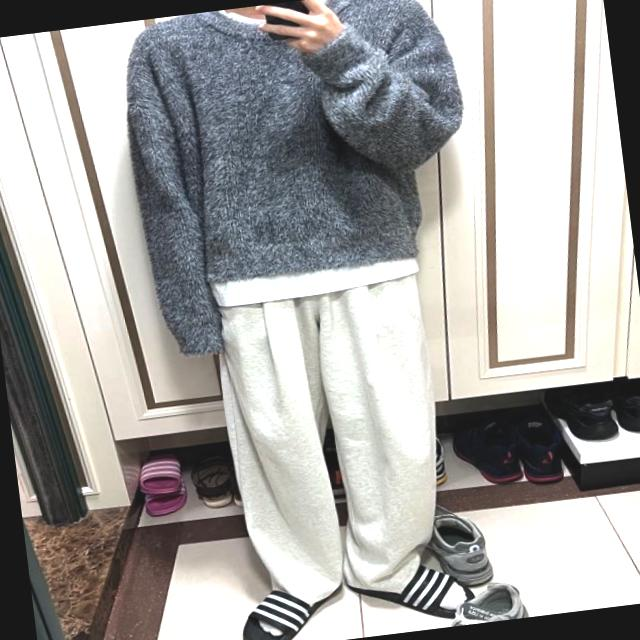sweater: (117, 0, 489, 362)
trainingpants: (216, 268, 464, 616)
